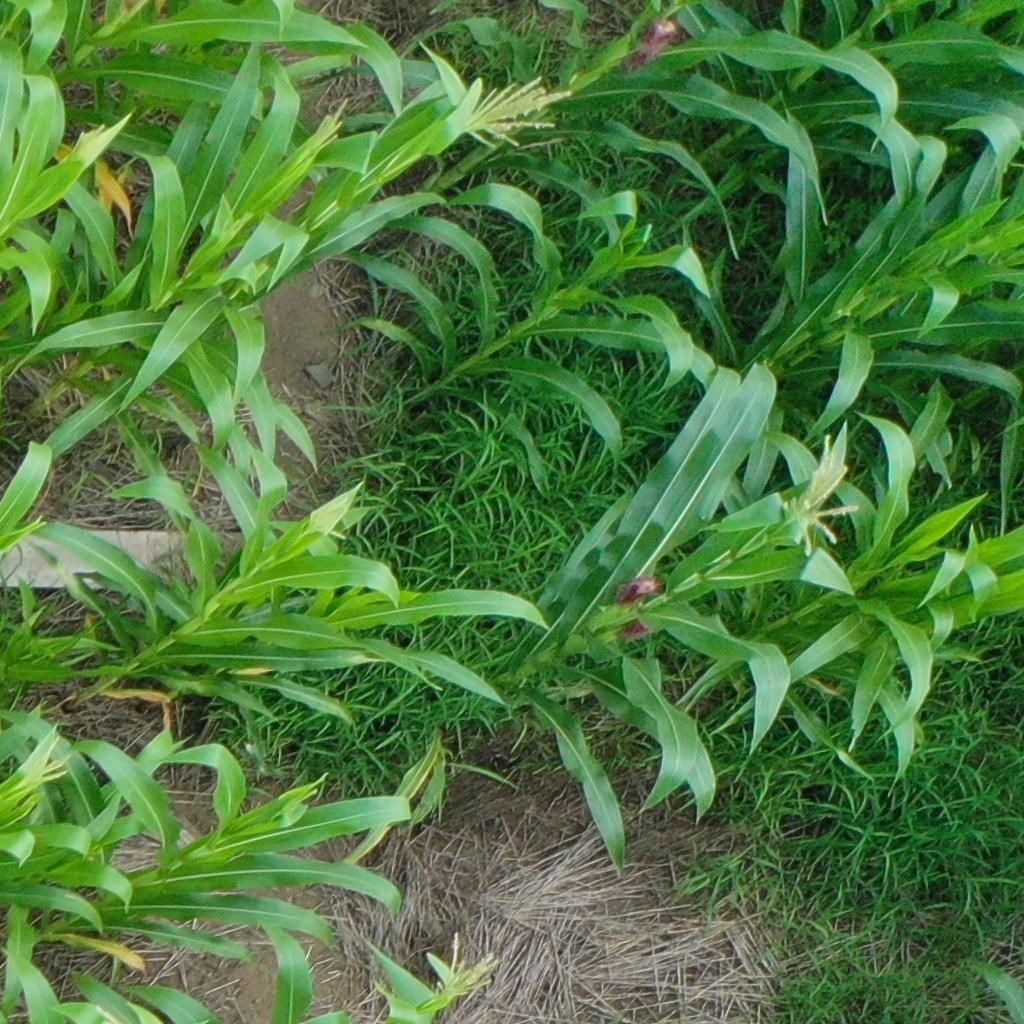Tassel: (776, 436, 861, 559), (458, 73, 573, 151), (432, 929, 496, 998), (16, 738, 68, 790), (310, 496, 354, 542), (312, 94, 349, 147), (75, 120, 105, 162)
